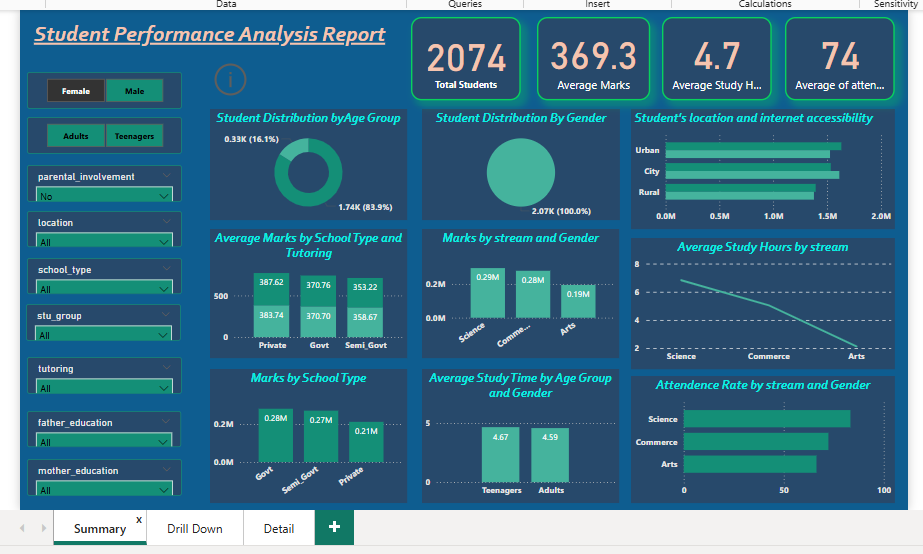

The page's visual inventory and layout, read from the dashboard file:
{"tool":"powerbi","page":{"name":"Summary","canvas":[1280,720],"ordinal":0},"visuals":[{"type":"pieChart","title":"Student Distribution By Gender","fields":{"Category":["bd_students_per.gender"],"Y":["CountNonNull(bd_students_per.id)"]},"box":[578.9,142.6,285.1,159.8],"z":0},{"type":"columnChart","title":"Marks by stream and Gender","fields":{"Category":["bd_students_per.stu_group"],"Y":["Sum(bd_students_per.TotalMarks)"],"Series":["bd_students_per.gender"]},"box":[578.9,315.4,283.7,185.8],"z":1000},{"type":"donutChart","title":"Student Distribution byAge Group","fields":{"Category":["bd_students_per.Age Group"],"Y":["CountNonNull(bd_students_per.id)"]},"box":[273.6,142.6,283.7,159.8],"z":2000},{"type":"clusteredBarChart","title":"Attendence Rate by stream and Gender","fields":{"Category":["bd_students_per.stu_group"],"Series":["bd_students_per.gender"],"Y":["Avg(bd_students_per.attendance)"]},"box":[879.8,527,380.2,182.9],"z":3000},{"type":"columnChart","title":"Average Study Time by Age Group and Gender","fields":{"Category":["bd_students_per.Age Group"],"Y":["Avg(bd_students_per.studytime)"],"Series":["bd_students_per.gender"]},"box":[578.9,517,283.7,193],"z":4000},{"type":"columnChart","title":"Marks by School Type","fields":{"Y":["Sum(bd_students_per.TotalMarks)"],"Category":["bd_students_per.school_type"]},"box":[273.6,517,283.7,193],"z":5000},{"type":"lineChart","title":"Average Study Hours by stream","fields":{"Y":["bd_students_per.Avgstudyhours"],"Category":["bd_students_per.stu_group"]},"box":[879.8,328.3,380.2,188.6],"z":6000},{"type":"card","fields":{"Values":["CountNonNull(bd_students_per.id)"]},"box":[563,10.1,158.4,119.5],"z":7000},{"type":"clusteredBarChart","title":"Student''s location and internet accessibility","fields":{"Series":["bd_students_per.internet_access"],"Y":["Sum(bd_students_per.id)"],"Category":["bd_students_per.location"]},"box":[879.8,142.6,380.2,172.8],"z":8000},{"type":"columnChart","title":"Average Marks by School Type and Tutoring","fields":{"Y":["Avg(bd_students_per.TotalMarks)"],"Category":["bd_students_per.school_type"],"Series":["bd_students_per.tutoring"]},"box":[273.6,315.4,283.7,185.8],"z":9000},{"type":"card","fields":{"Values":["Avg(bd_students_per.TotalMarks)"]},"box":[744.5,10.1,162.7,119.5],"z":10000},{"type":"card","fields":{"Values":["Avg(bd_students_per.studytime)"]},"box":[924.5,10.1,158.4,119.5],"z":11000},{"type":"slicer","fields":{"Values":["bd_students_per.tutoring"]},"box":[10.1,499.7,223.2,53.3],"z":12000},{"type":"slicer","fields":{"Values":["bd_students_per.gender"]},"box":[10.1,89.3,223.2,53.3],"z":13000},{"type":"slicer","fields":{"Values":["bd_students_per.location"]},"box":[10.1,289.4,223.2,51.8],"z":14000},{"type":"slicer","fields":{"Values":["bd_students_per.school_type"]},"box":[10.1,357.1,223.2,51.8],"z":15000},{"type":"card","fields":{"Values":["Avg(bd_students_per.attendance)"]},"box":[1101.6,10.1,158.4,119.5],"z":16000},{"type":"textbox","box":[10.1,10.1,525.6,54.7],"z":17000},{"type":"slicer","fields":{"Values":["bd_students_per.stu_group"]},"box":[8.6,423.4,223.2,53.3],"z":18000},{"type":"slicer","fields":{"Values":["bd_students_per.Age Group"]},"box":[10.1,154.1,223.2,53.3],"z":19000},{"type":"slicer","fields":{"Values":["bd_students_per.father_education"]},"box":[10.1,577.4,221.8,51.8],"z":20000},{"type":"slicer","fields":{"Values":["bd_students_per.mother_education"]},"box":[10.1,646.6,223.2,53.3],"z":21000},{"type":"slicer","fields":{"Values":["bd_students_per.parental_involvement"]},"box":[10.1,223.2,223.2,53.3],"z":22000},{"type":"actionButton","title":"See More","box":[273.6,70.6,126.7,59],"z":23000}]}

Visuals, with their boxes on the page's 1280x720 design canvas (x1, y1, x2, y2). These are canvas units, not pixel positions in the 923x554 screenshot, which may show the page scaled, cropped or inside an application window:
"Student Distribution By Gender" pieChart: l=579, t=143, r=864, b=302
"Marks by stream and Gender" columnChart: l=579, t=315, r=863, b=501
"Student Distribution byAge Group" donutChart: l=274, t=143, r=557, b=302
"Attendence Rate by stream and Gender" clusteredBarChart: l=880, t=527, r=1260, b=710
"Average Study Time by Age Group and Gender" columnChart: l=579, t=517, r=863, b=710
"Marks by School Type" columnChart: l=274, t=517, r=557, b=710
"Average Study Hours by stream" lineChart: l=880, t=328, r=1260, b=517
card - CountNonNull(bd_students_per.id): l=563, t=10, r=721, b=130
"Student''s location and internet accessibility" clusteredBarChart: l=880, t=143, r=1260, b=315
"Average Marks by School Type and Tutoring" columnChart: l=274, t=315, r=557, b=501
card - Avg(bd_students_per.TotalMarks): l=744, t=10, r=907, b=130
card - Avg(bd_students_per.studytime): l=924, t=10, r=1083, b=130
slicer - bd_students_per.tutoring: l=10, t=500, r=233, b=553
slicer - bd_students_per.gender: l=10, t=89, r=233, b=143
slicer - bd_students_per.location: l=10, t=289, r=233, b=341
slicer - bd_students_per.school_type: l=10, t=357, r=233, b=409
card - Avg(bd_students_per.attendance): l=1102, t=10, r=1260, b=130
textbox: l=10, t=10, r=536, b=65
slicer - bd_students_per.stu_group: l=9, t=423, r=232, b=477
slicer - bd_students_per.Age Group: l=10, t=154, r=233, b=207
slicer - bd_students_per.father_education: l=10, t=577, r=232, b=629
slicer - bd_students_per.mother_education: l=10, t=647, r=233, b=700
slicer - bd_students_per.parental_involvement: l=10, t=223, r=233, b=276
"See More" actionButton: l=274, t=71, r=400, b=130
